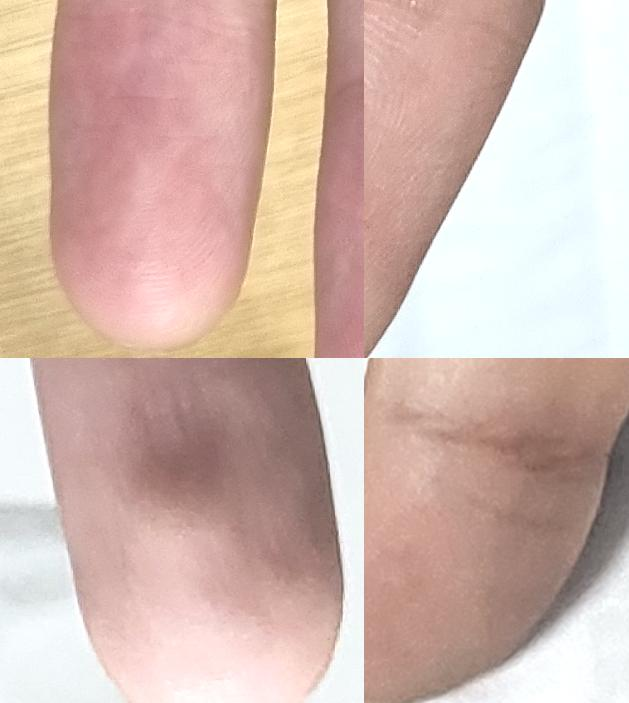Fingerprints: (28, 358, 344, 703), (48, 12, 275, 351), (364, 0, 546, 358), (364, 440, 608, 703)
